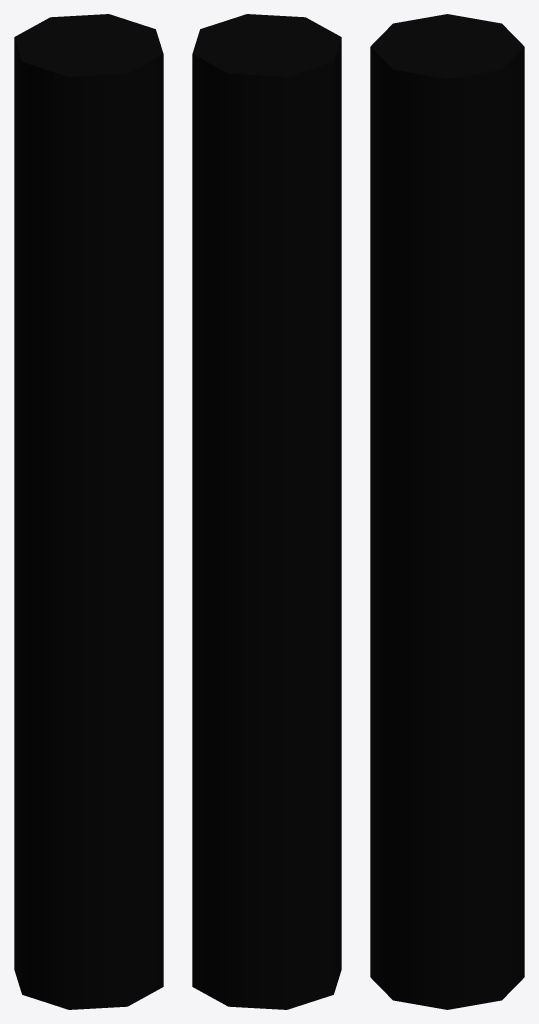
3 renders of one model, left to right at view 1: azimuth 30°, elevation 25°; view 2: azimuth 150°, elevation 25°; view 3: azimuth 270°, elevation 25°, orthographic.
Visible parts, largest first — view 1: Joint_0_Object_0; view 2: Joint_0_Object_0; view 3: Joint_0_Object_0.
Part boxes in pixels (x1=…): Joint_0_Object_0: x1=14, y1=14, x2=163, y2=1009; Joint_0_Object_0: x1=192, y1=14, x2=341, y2=1009; Joint_0_Object_0: x1=370, y1=14, x2=524, y2=1009.
Bounding box in the file's own units: 60 × 400 × 60.
1 material, 1 textured.
